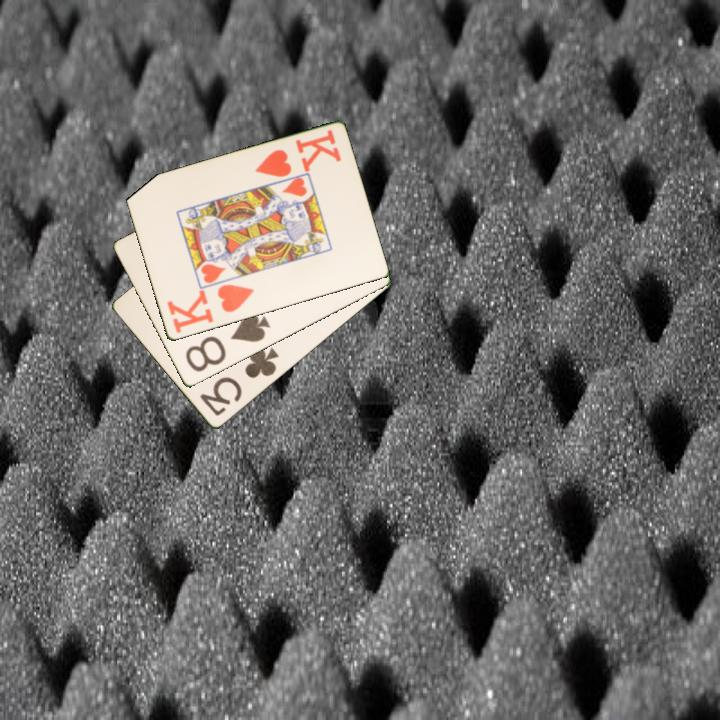3c: (196, 344, 282, 420)
8s: (182, 310, 273, 375)
Kh: (163, 281, 257, 337), (251, 126, 344, 180)
